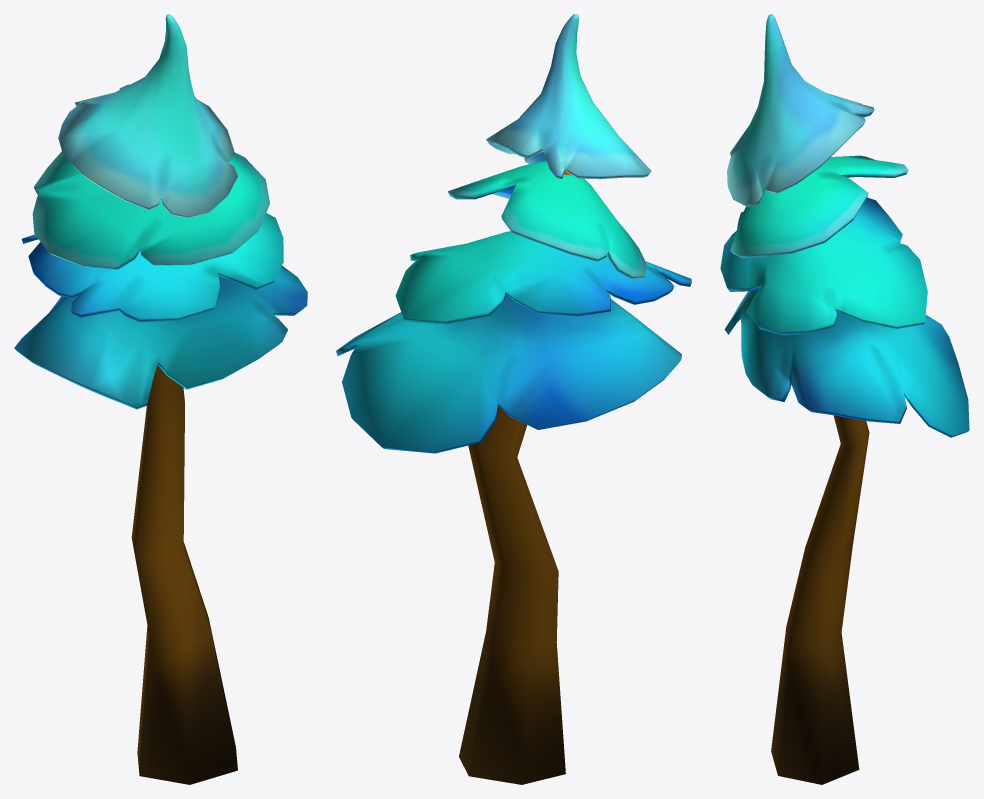
The model's file is TreeStyle2Blue_04.fbx.
3 views of the same model, side by side, from view 1: azimuth 30°, elevation 25°; view 2: azimuth 150°, elevation 25°; view 3: azimuth 270°, elevation 25° (orthographic). The views are drawn at different scales.
Visible parts, largest first — view 1: TreeStyle2_04; view 2: TreeStyle2_04; view 3: TreeStyle2_04.
Boxes of the visible parts, <box> form: TreeStyle2_04: <box>14,14,307,784</box>; TreeStyle2_04: <box>336,14,691,784</box>; TreeStyle2_04: <box>720,14,969,784</box>.
Bounding box in the file's own units: 538 × 1342 × 416.
